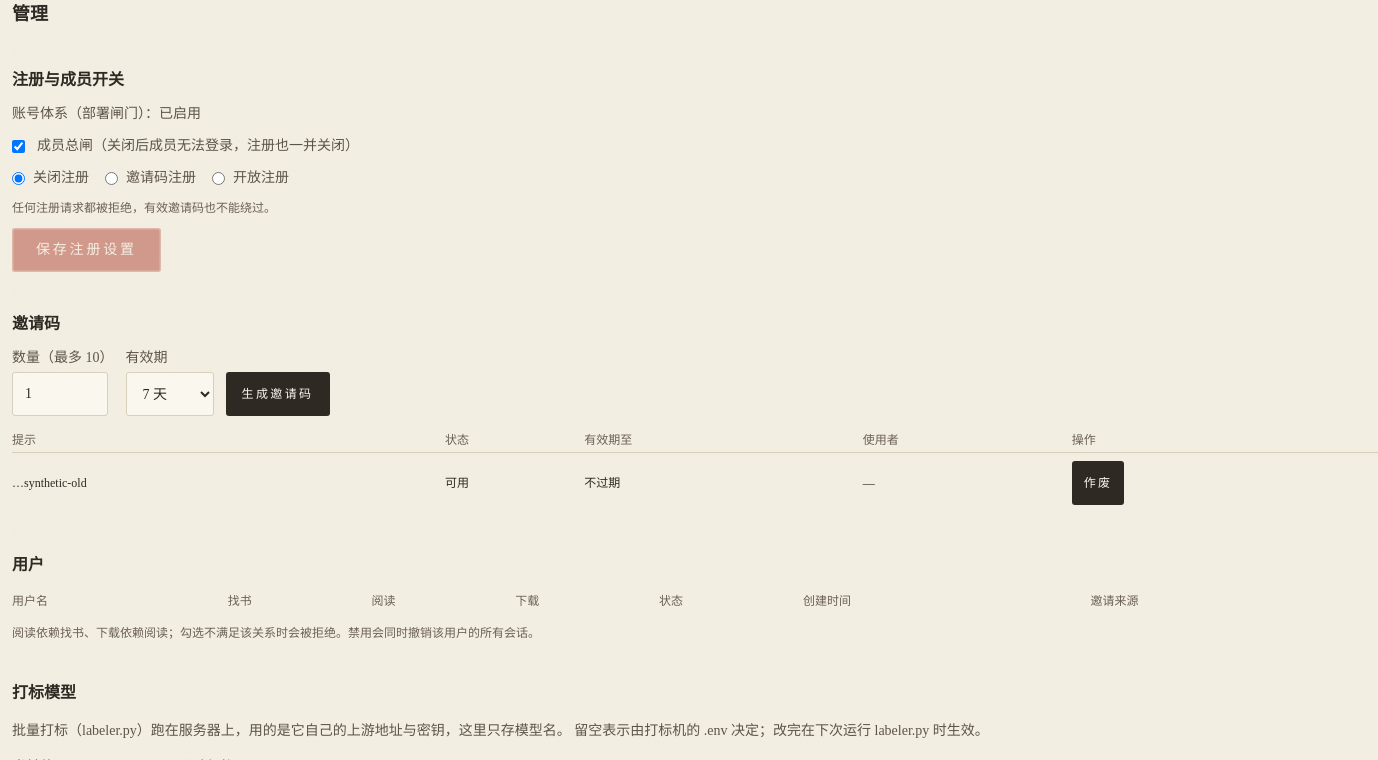
Test case: keeps the original POST failure path and does not request a refresh
The width and height of the screenshot is (1378, 760).
Click the button "生成邀请码".
click(278, 394)  # box x1=226 y1=372 x2=330 y2=416
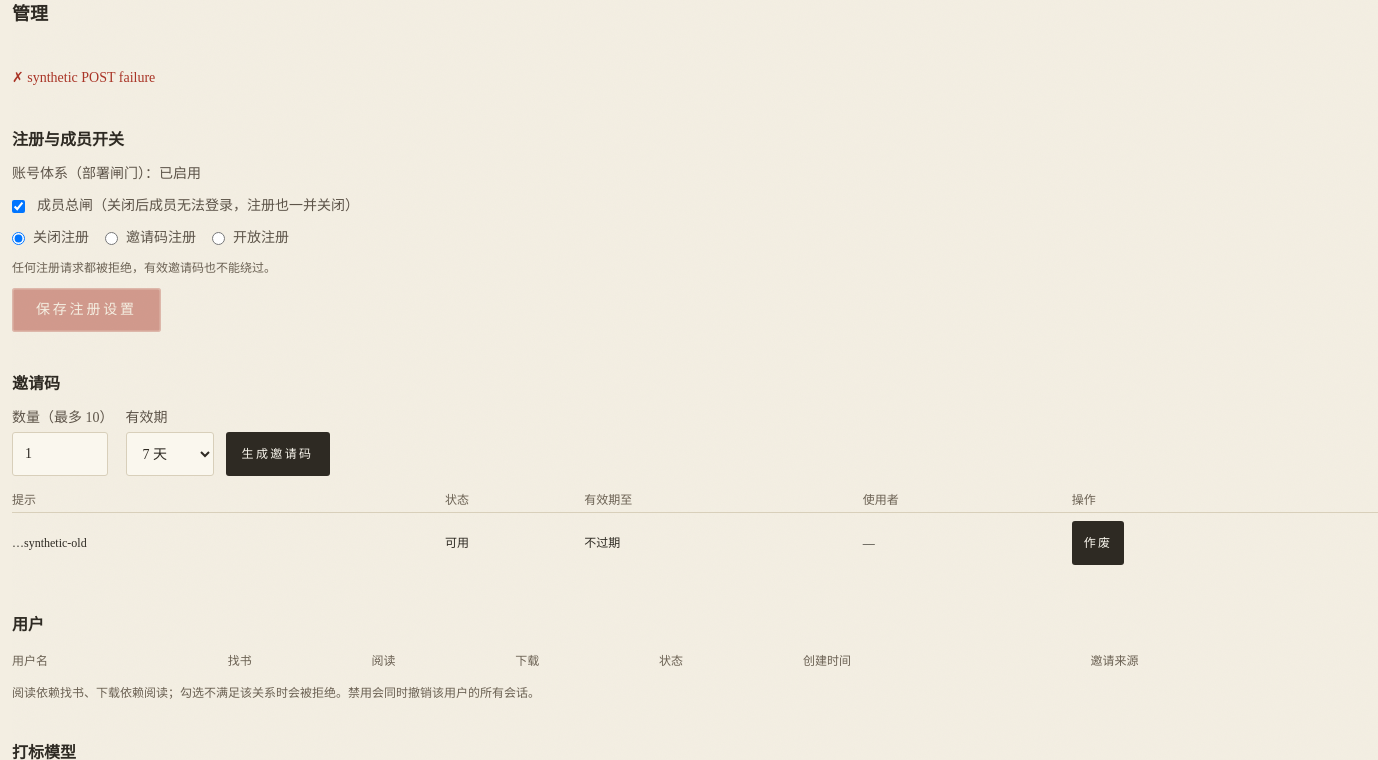
Expected: the message shows "synthetic POST failure", x1=27 y1=70 x2=155 y2=85
